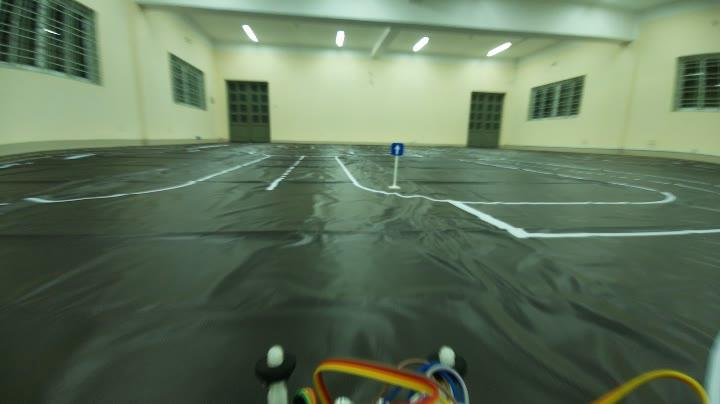onewayroad: (386, 140, 407, 160)
